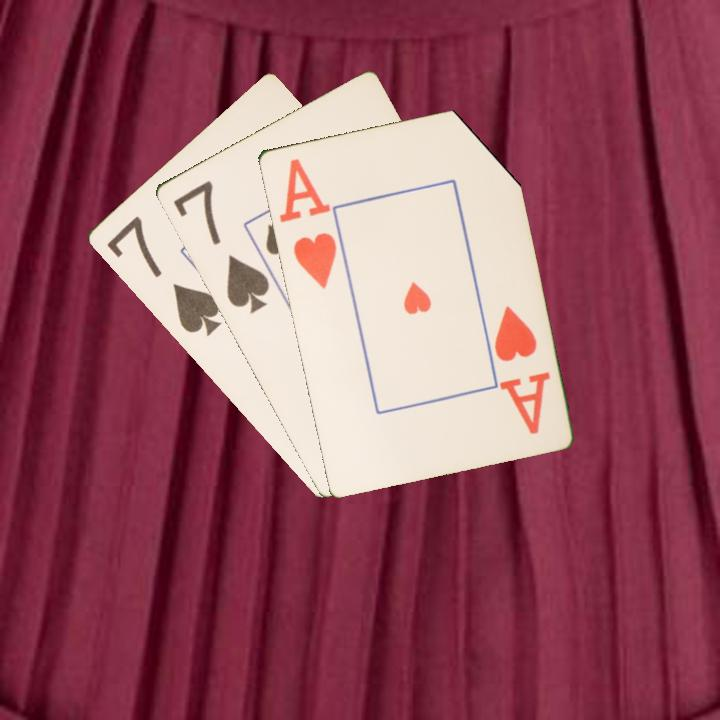7s: (102, 212, 224, 340), (169, 176, 272, 317)
Ah: (275, 154, 339, 292), (490, 302, 553, 437)
